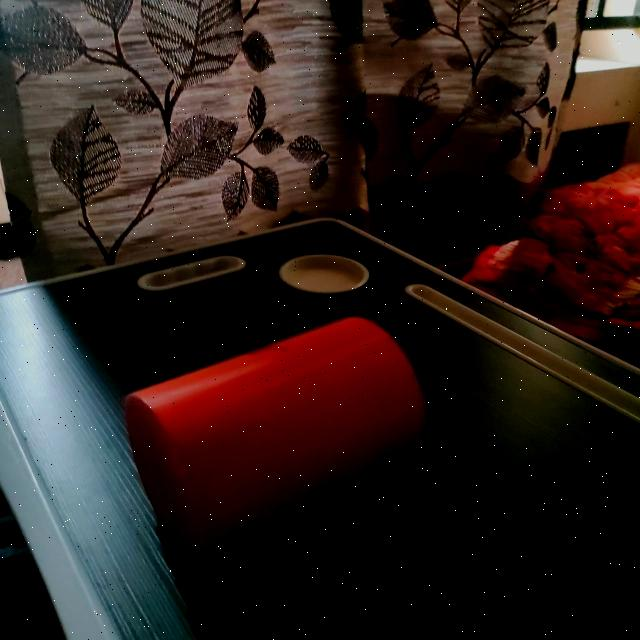Cylinder: (124, 314, 428, 566)
